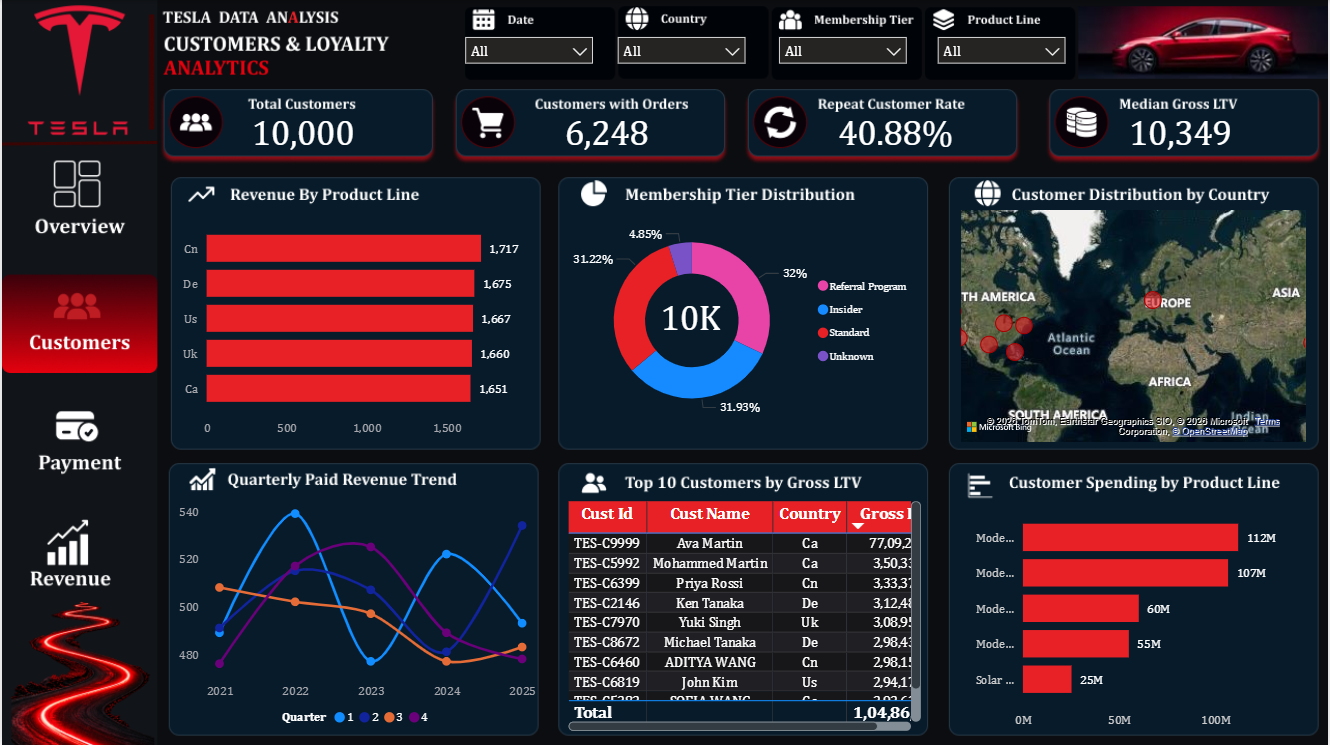

The page's visual inventory and layout, read from the dashboard file:
{"tool":"powerbi","page":{"name":"Customer & Loyalty Analytics","canvas":[1280,720],"ordinal":1},"visuals":[{"type":"clusteredBarChart","title":"Revenue By Product Line","fields":{"Category":["public customers.country"],"Y":["Measure.TOTAL CUSTOMERS"]},"box":[167.7,200.3,353.5,229.2],"z":0},{"type":"donutChart","title":"Membership Tier Distribution","fields":{"Category":["public customers.membership_tier"],"Y":["Measure.TOTAL CUSTOMERS"]},"box":[540.5,189.4,351.1,240.1],"z":1000},{"type":"cardVisual","title":"Total Customers","fields":{"Data":["Measure.Total Customers Display"]},"box":[228,88.1,125.5,60.3],"z":2000},{"type":"cardVisual","title":"Total Customers","fields":{"Data":["Measure.Customers with Orders Display"]},"box":[521.2,88.1,125.5,60.3],"z":3000},{"type":"cardVisual","title":"Total Customers","fields":{"Data":["Measure.Repeat Customer Rate"]},"box":[784.2,88.1,156.8,60.3],"z":4000},{"type":"cardVisual","title":"Total Customers","fields":{"Data":["Measure.Median Gross LTV Display"]},"box":[1059.3,88.1,156.8,60.3],"z":5000},{"type":"cardVisual","title":"Total Customers","fields":{"Data":["Measure.TOTAL CUSTOMERS"]},"box":[602,263,125.5,74.8],"z":6000},{"type":"map","title":"Customer Distribution by Country","fields":{"Category":["public customers.city"],"Size":["Measure.TOTAL CUSTOMERS"]},"box":[920.5,197.9,342.6,234],"z":7000},{"type":"lineChart","title":"Quarterly Paid Revenue Trend","fields":{"Y":["Measure.TOTAL CUSTOMERS"],"Category":["public customers.signup_date Hierarchy.Year"],"Series":["public customers.signup_date Hierarchy.Quarter"]},"box":[164.1,477.8,357.1,232.8],"z":8000},{"type":"tableEx","title":"Top 10 Customers by Gross LTV","fields":{"Values":["public customers.customer_id","public customers.customer_name","public customers.country","Measure.Gross LTV"]},"box":[540.5,479,351.1,231.6],"z":9000},{"type":"clusteredBarChart","title":"Customer Spending by Product Line","fields":{"Category":["public orders.product_category"],"Y":["Measure.Gross Spending (USD)"]},"box":[920.5,479,342.6,231.6],"z":10000},{"type":"actionButton","box":[0,142.4,149.6,95.3],"z":11000},{"type":"actionButton","box":[0,266.6,149.6,95.3],"z":12000},{"type":"slicer","fields":{"Values":["public orders.year"]},"box":[437,25.6,143.6,41],"z":13000},{"type":"slicer","fields":{"Values":["public customers.country"]},"box":[583.9,25.3,143.6,41],"z":14000},{"type":"slicer","fields":{"Values":["public customers.membership_tier"]},"box":[739.5,25.3,143.6,41],"z":15000},{"type":"slicer","fields":{"Values":["public orders.product_category"]},"box":[893,25.6,143.6,41],"z":16000},{"type":"actionButton","box":[0,383.6,149.6,95.3],"z":17000},{"type":"actionButton","box":[0,487.4,149.6,95.3],"z":17001}]}

Visuals, with their boxes on the page's 1280x720 design canvas (x1, y1, x2, y2). These are canvas units, not pixel positions in the 1330x745 screenshot, which may show the page scaled, cropped or inside an application window:
"Revenue By Product Line" clusteredBarChart: [168, 200, 521, 430]
"Membership Tier Distribution" donutChart: [540, 189, 892, 430]
"Total Customers" cardVisual: [228, 88, 354, 148]
"Total Customers" cardVisual: [521, 88, 647, 148]
"Total Customers" cardVisual: [784, 88, 941, 148]
"Total Customers" cardVisual: [1059, 88, 1216, 148]
"Total Customers" cardVisual: [602, 263, 728, 338]
"Customer Distribution by Country" map: [920, 198, 1263, 432]
"Quarterly Paid Revenue Trend" lineChart: [164, 478, 521, 711]
"Top 10 Customers by Gross LTV" tableEx: [540, 479, 892, 711]
"Customer Spending by Product Line" clusteredBarChart: [920, 479, 1263, 711]
actionButton: [0, 142, 150, 238]
actionButton: [0, 267, 150, 362]
slicer - public orders.year: [437, 26, 581, 67]
slicer - public customers.country: [584, 25, 728, 66]
slicer - public customers.membership_tier: [740, 25, 883, 66]
slicer - public orders.product_category: [893, 26, 1037, 67]
actionButton: [0, 384, 150, 479]
actionButton: [0, 487, 150, 583]
